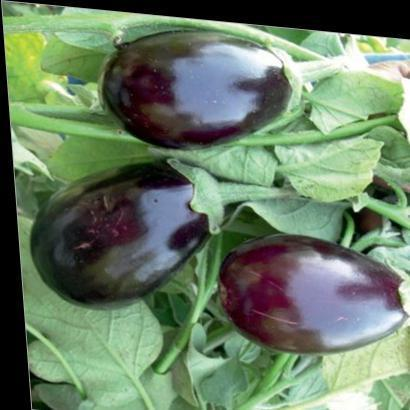eggplant: (211, 196, 409, 360), (9, 136, 241, 272), (110, 8, 316, 137)
